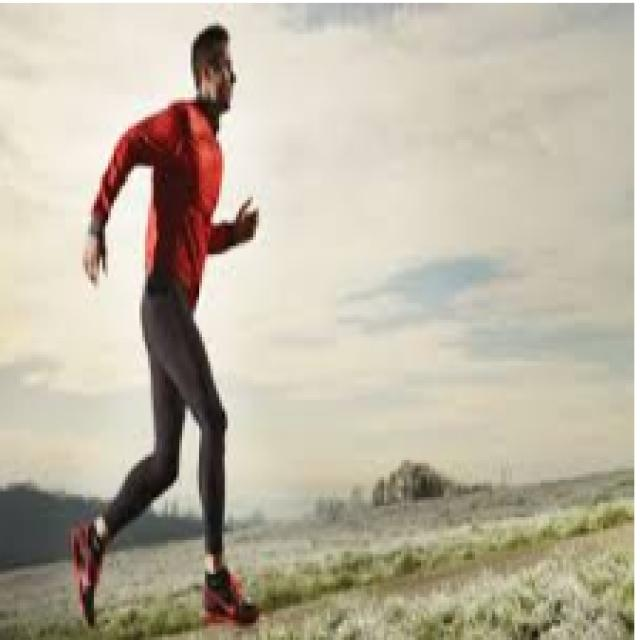running: (63, 26, 263, 628)
